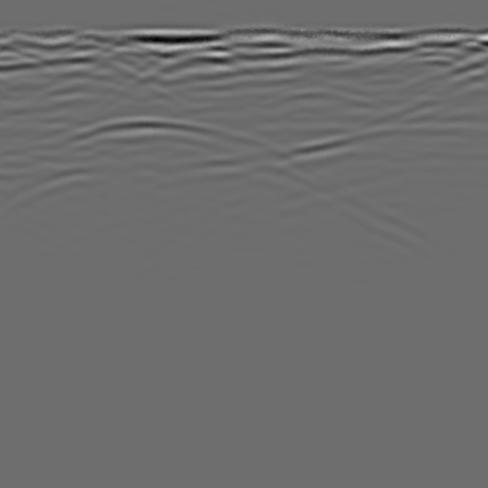hyperbola: (4, 101, 279, 232)
